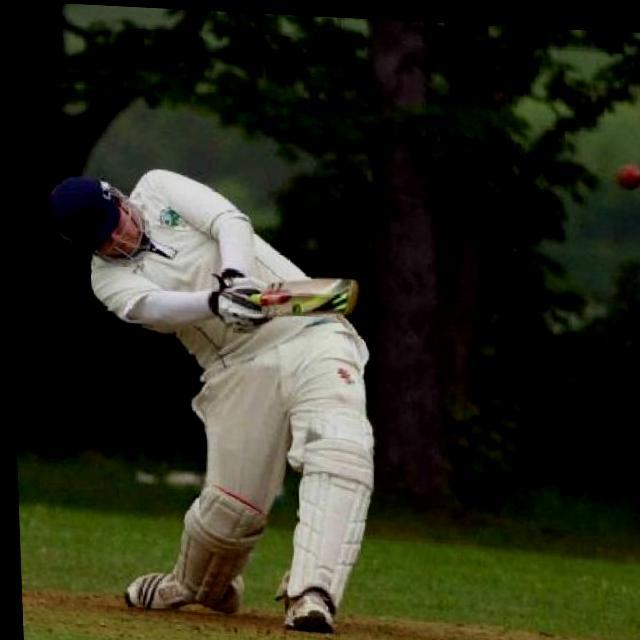-: (601, 139, 640, 216)
